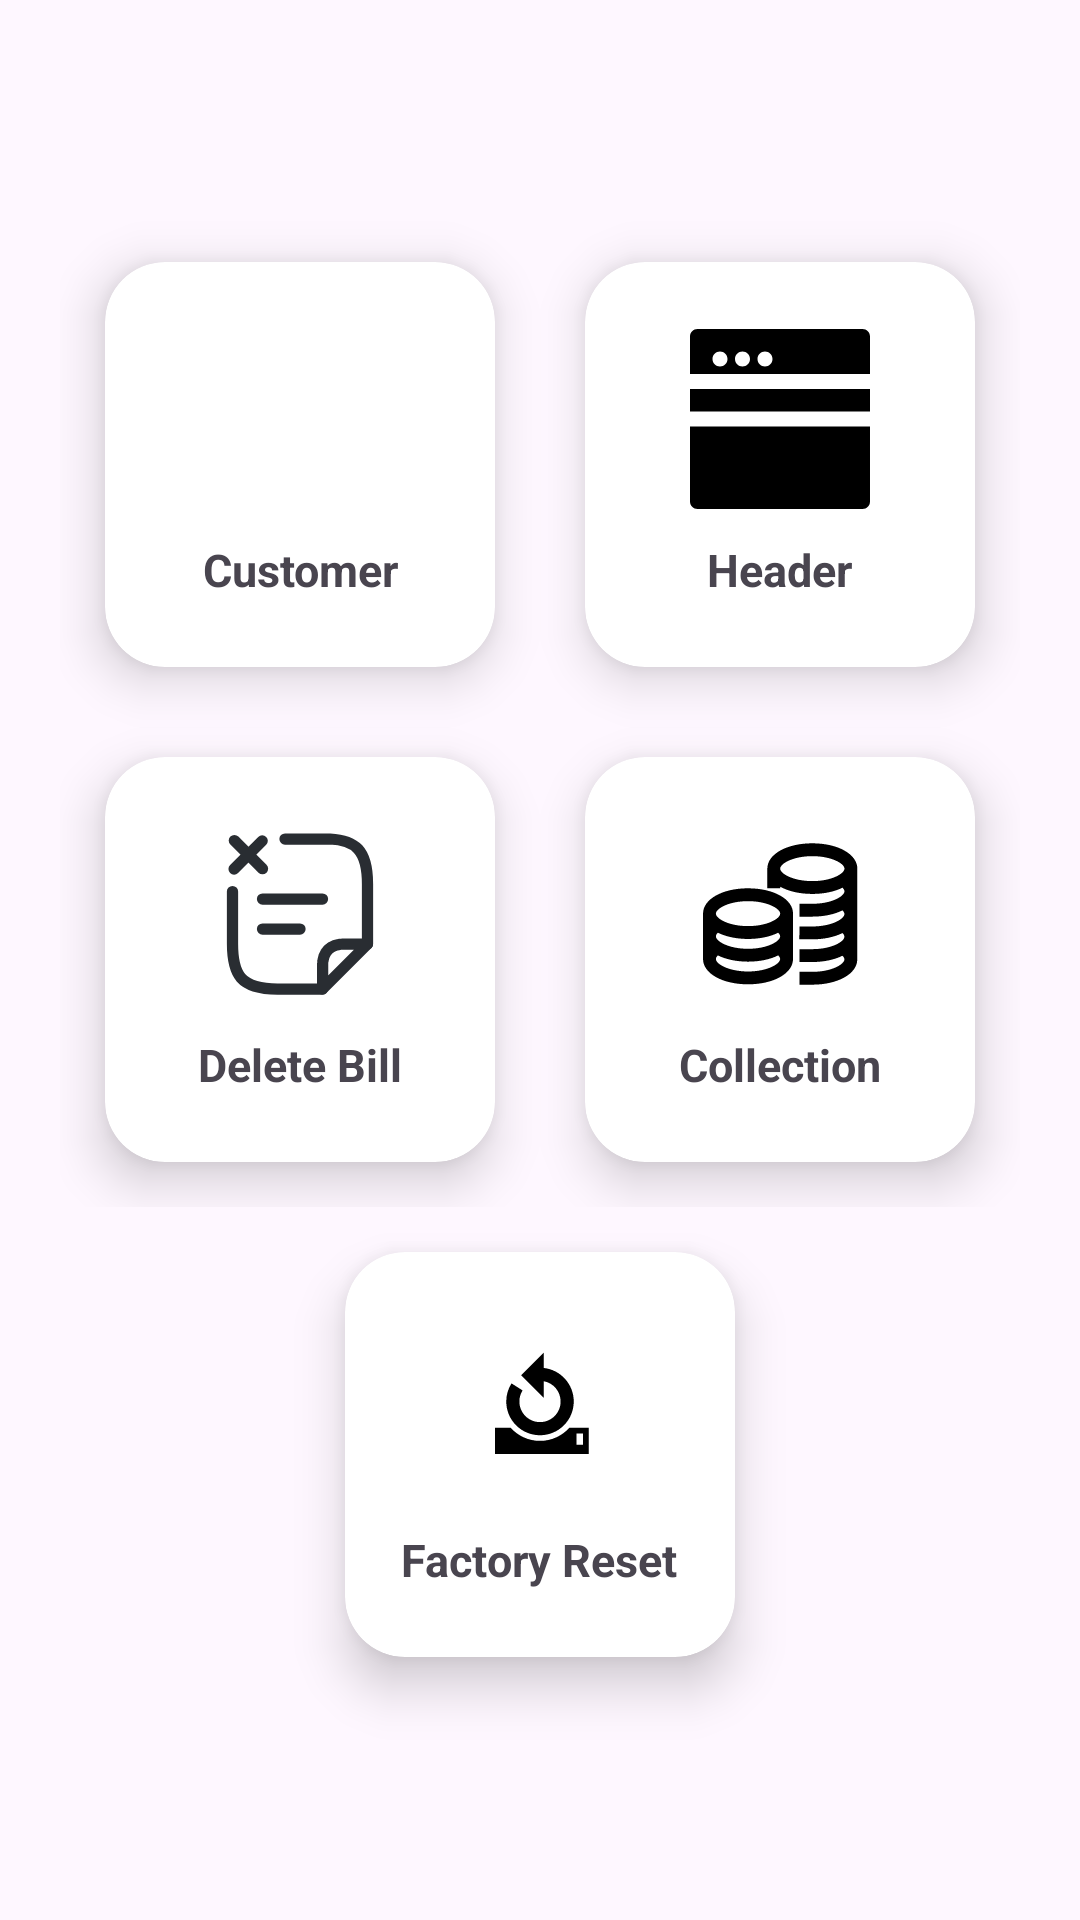

Icons on this 1080*1920 Android screen, each with its box as box=[x1, y1, x2, y2]:
money collect: box=[703, 843, 858, 985]
